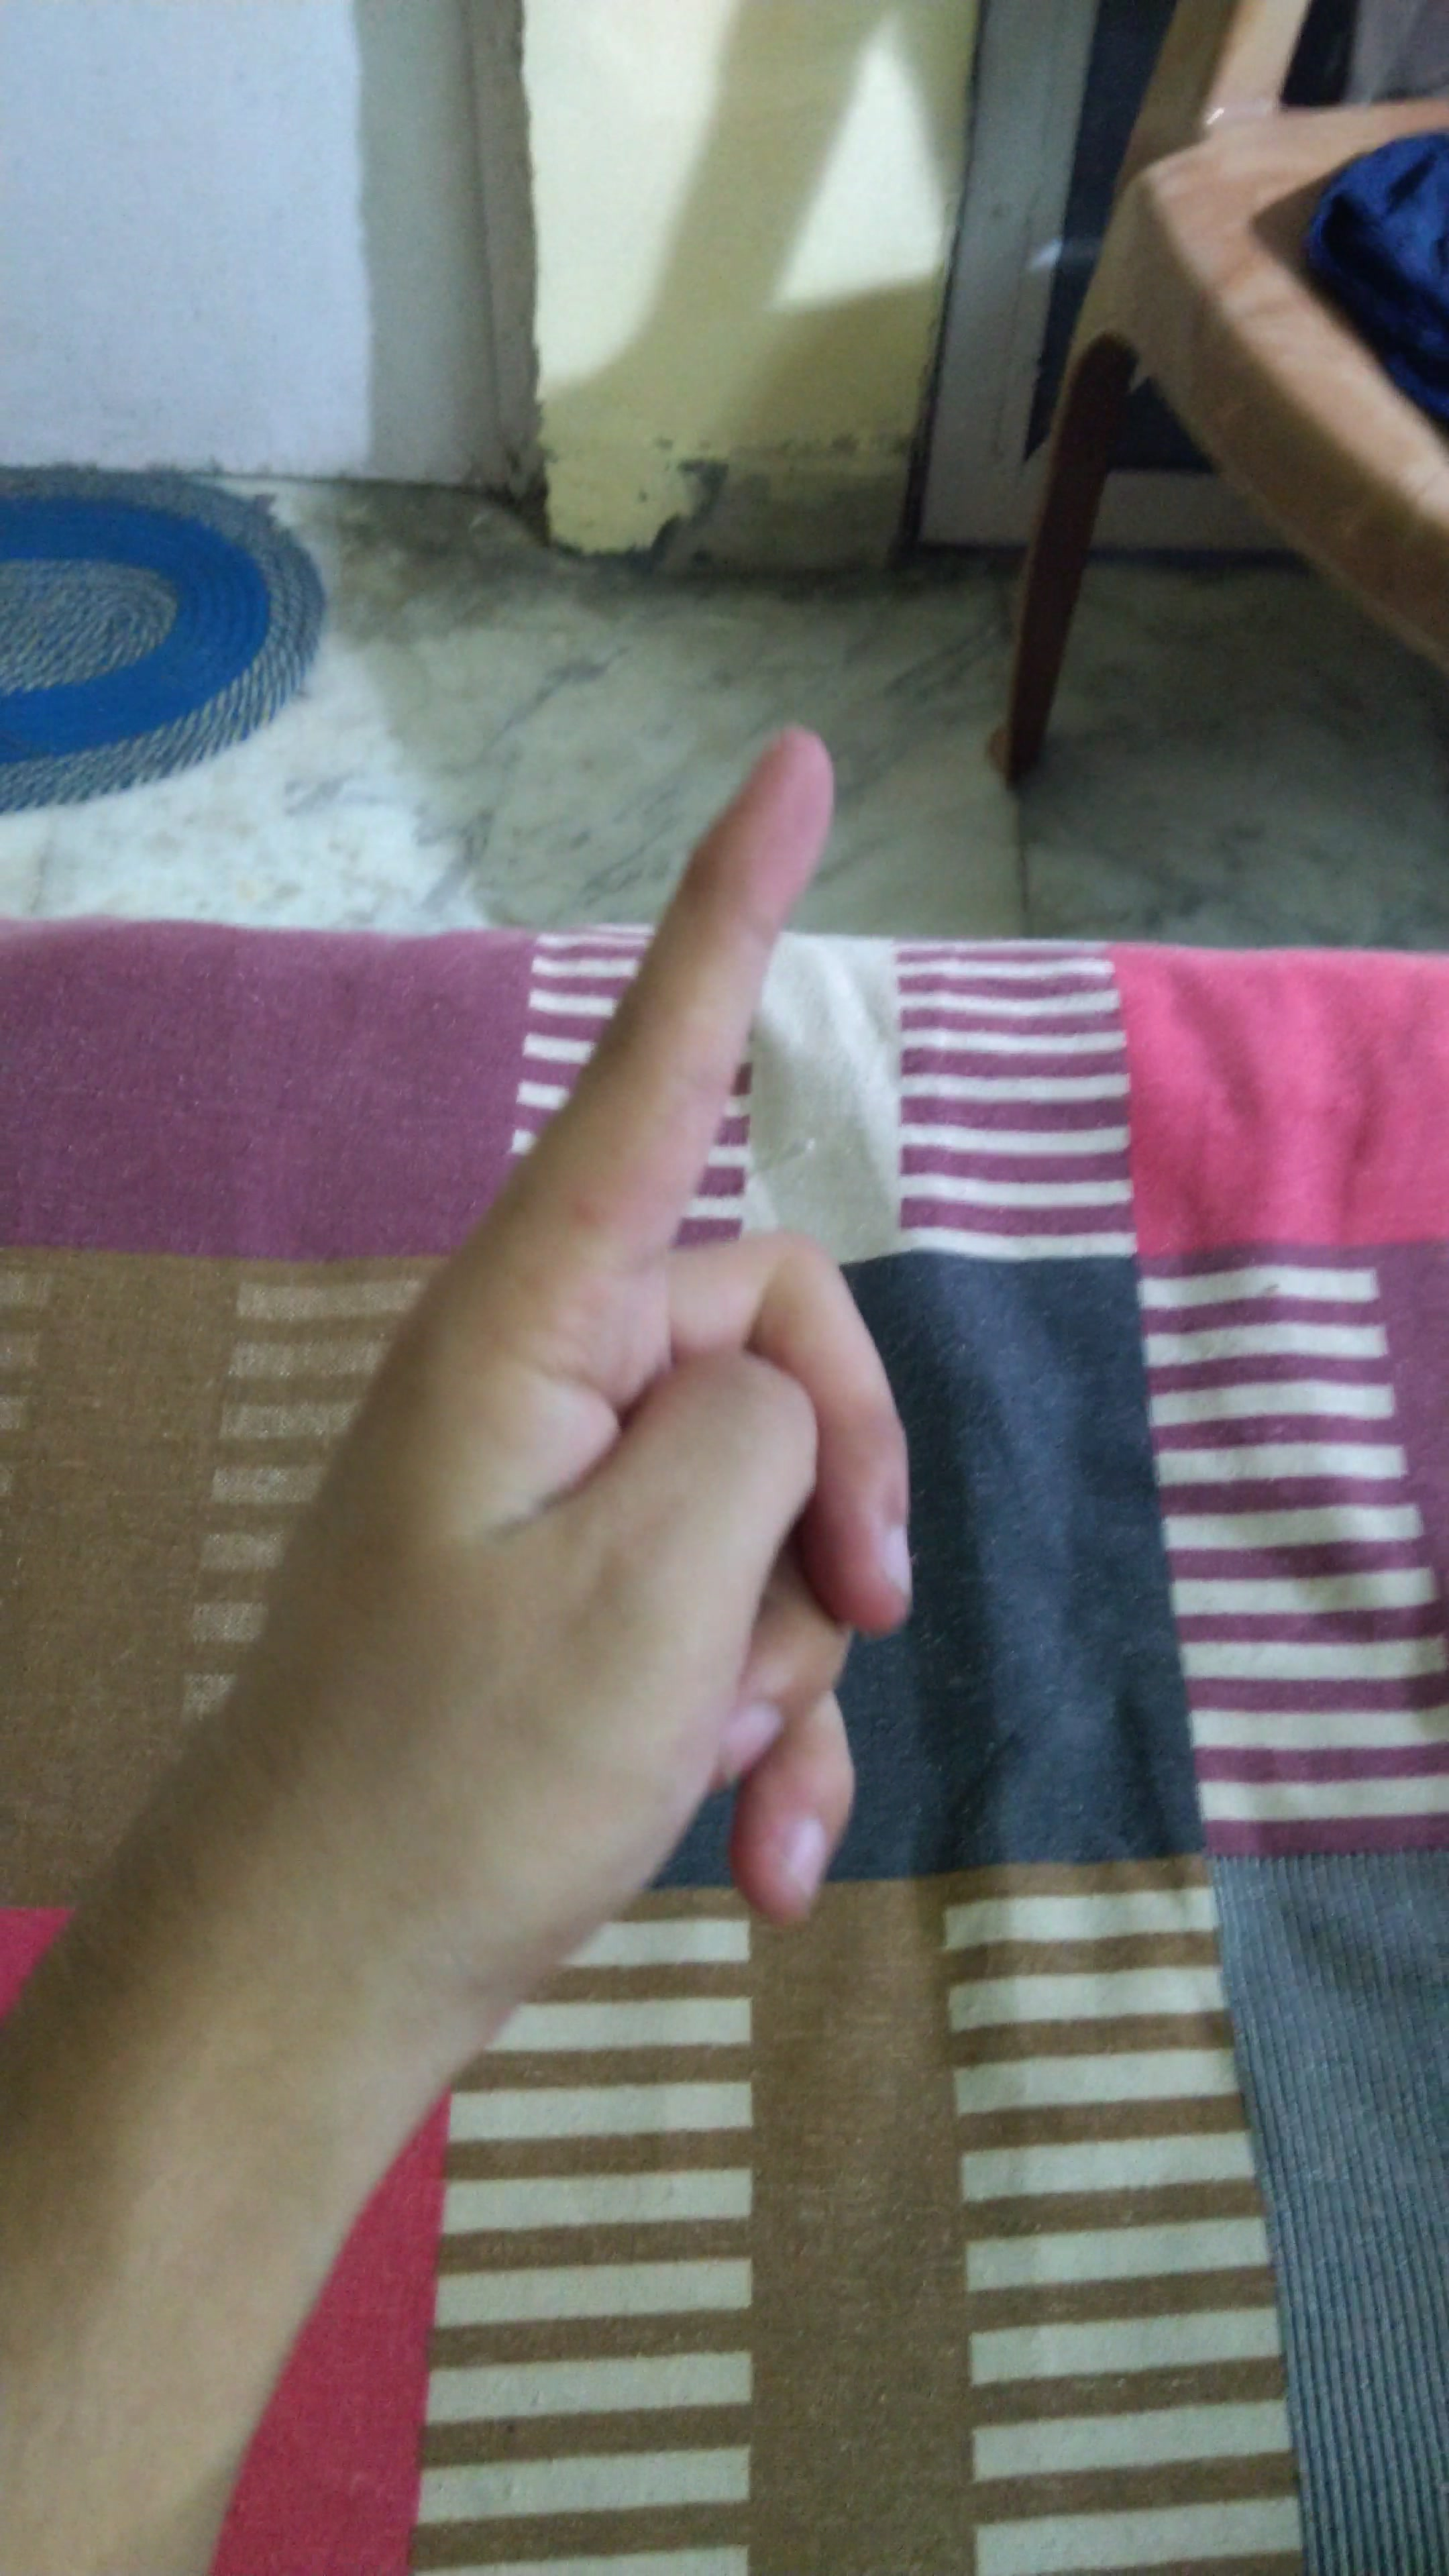hand: (225, 709, 1069, 2040)
